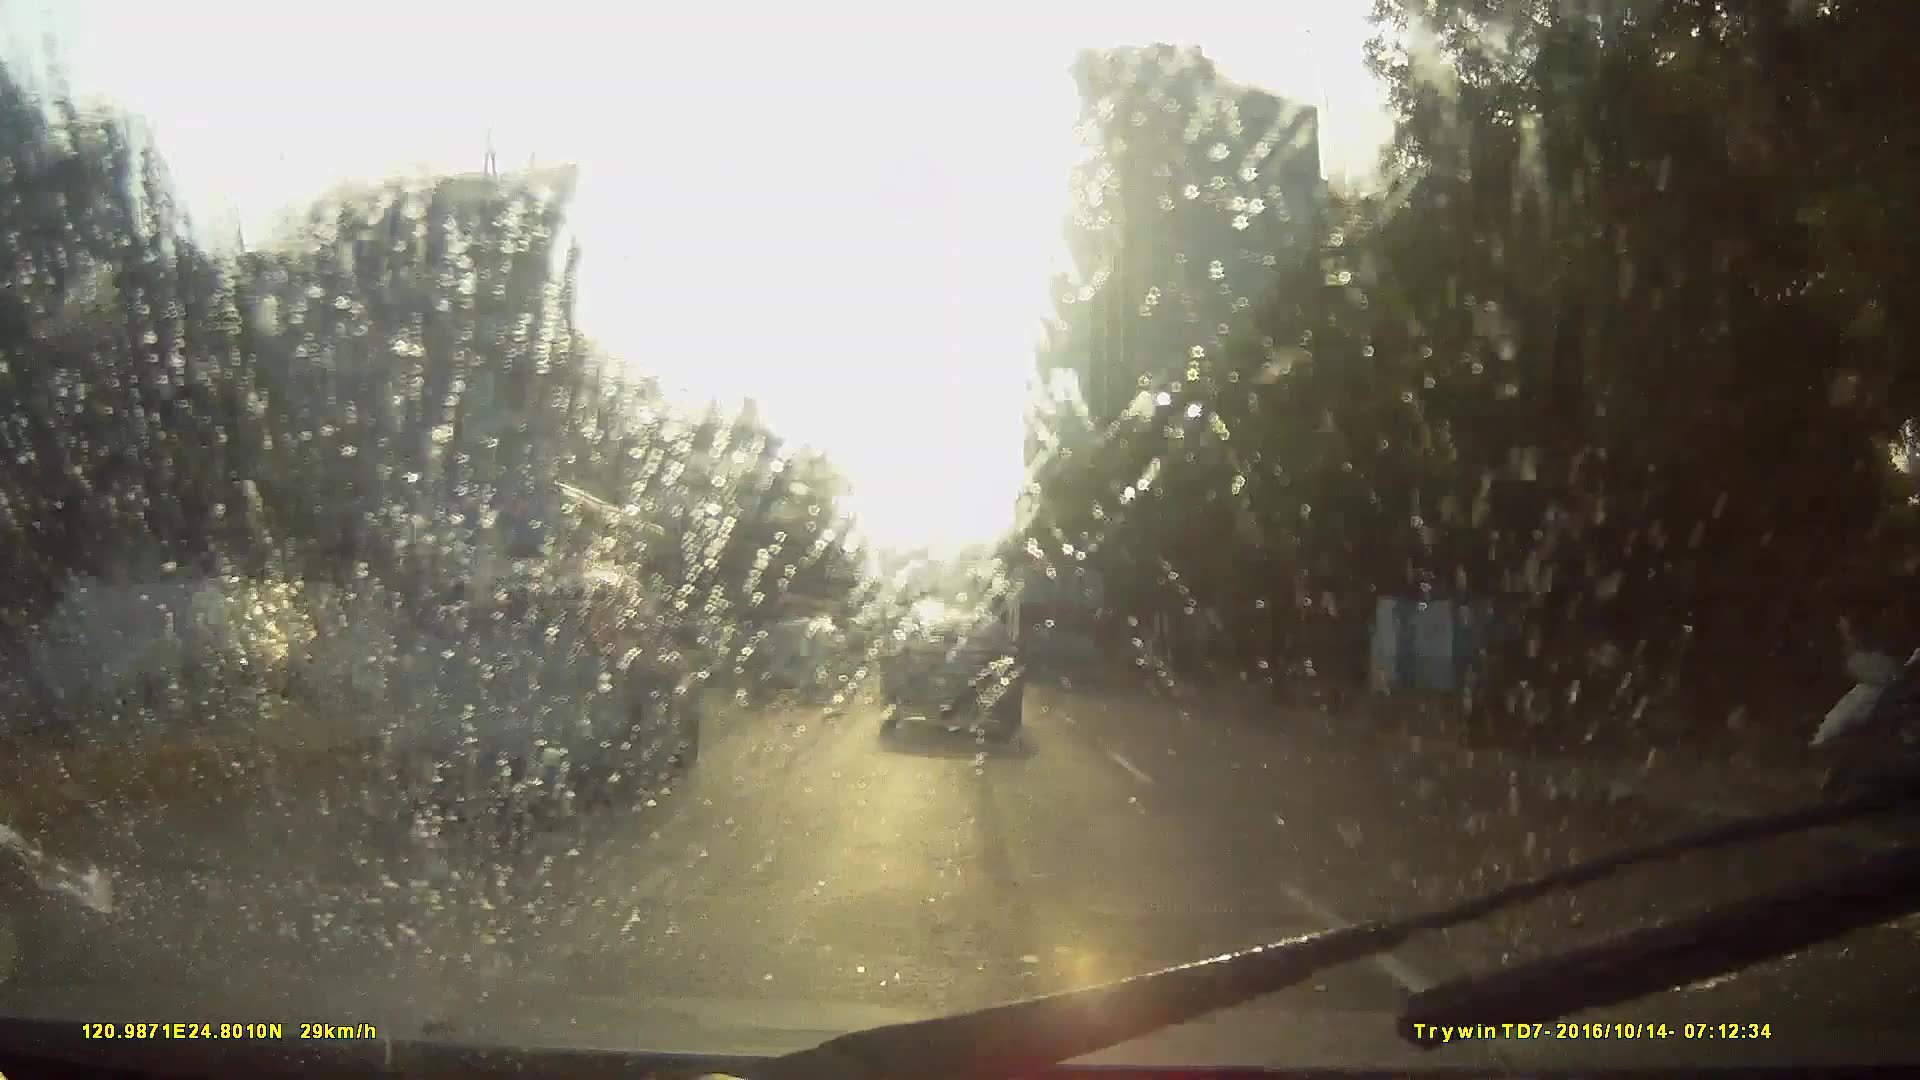vehicle: (251, 556, 684, 868), (357, 465, 699, 717), (393, 554, 703, 793), (881, 604, 1021, 752), (1000, 560, 1105, 687), (741, 618, 851, 704), (866, 638, 915, 687)
